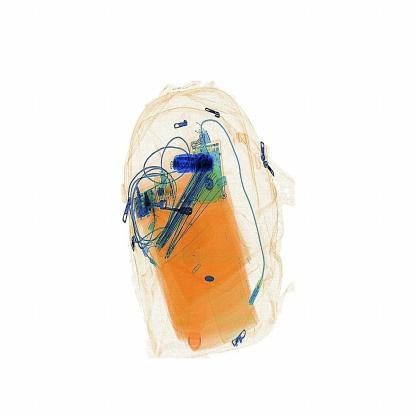scissors: (168, 144, 232, 187)
